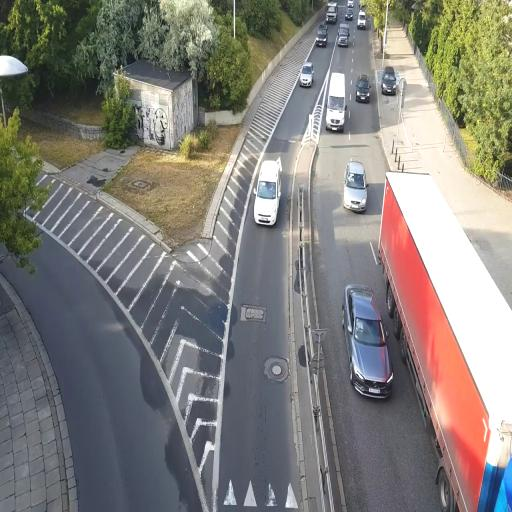vehicle: (377, 172, 512, 510), (342, 284, 394, 402), (343, 160, 368, 213), (326, 72, 346, 133), (381, 68, 398, 96), (355, 77, 371, 102), (299, 64, 314, 88), (337, 25, 351, 46), (315, 25, 328, 46)
